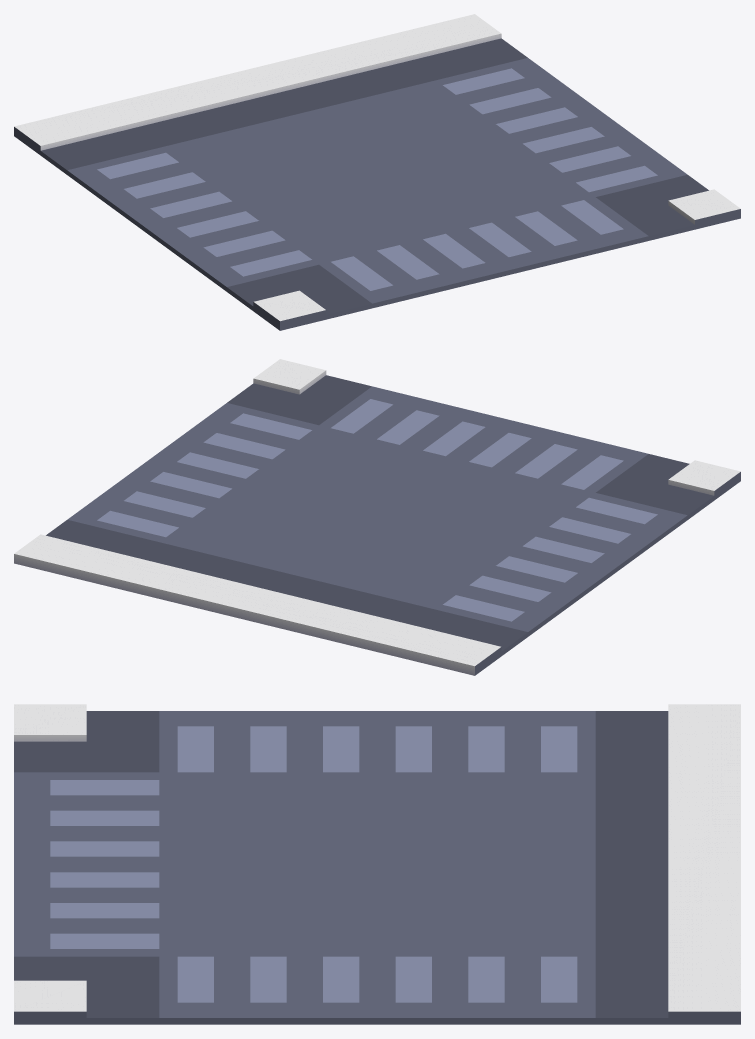
Rendered from road-intersection-path.glb.
3 views of the same model, one above another, from view 1: azimuth 30°, elevation 25°; view 2: azimuth 150°, elevation 25°; view 3: azimuth 270°, elevation 25° (orthographic). The views are drawn at different scales.
Parts seen in each view (by area): view 1: road-intersection-path; view 2: road-intersection-path; view 3: road-intersection-path.
Part boxes in pixels (bbox=[...]): road-intersection-path: bbox=[14, 14, 740, 330]; road-intersection-path: bbox=[14, 359, 740, 675]; road-intersection-path: bbox=[14, 704, 740, 1024].
Size of the model in its own units: 1 by 0.02 by 1.
1 material, 1 textured.
